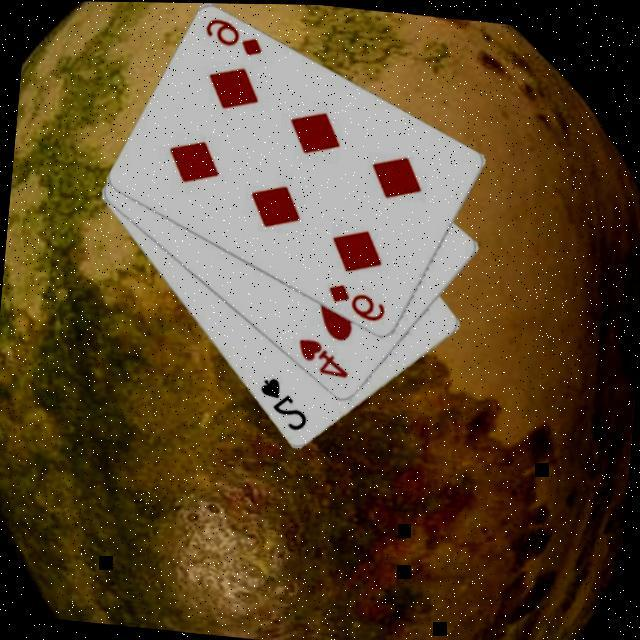2S: (252, 370, 312, 432)
4H: (291, 332, 353, 379)
6D: (322, 276, 389, 322), (199, 12, 266, 58)
